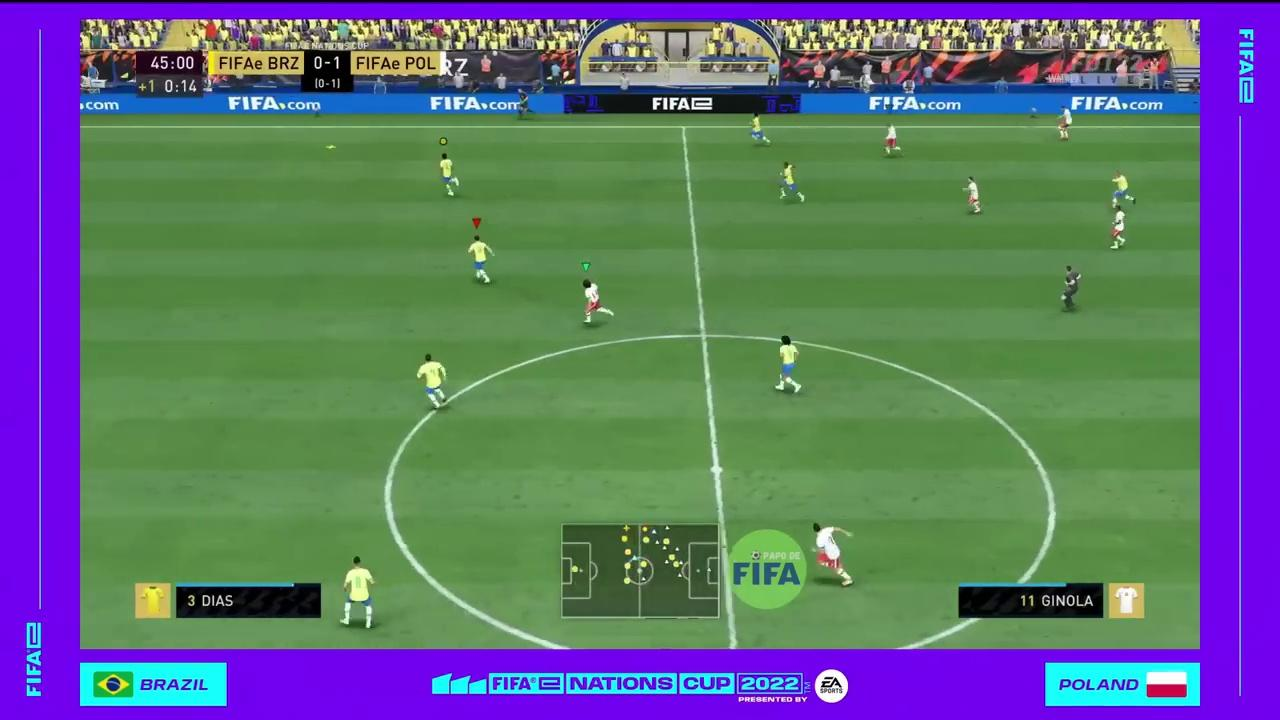scoreboard: (209, 51, 447, 77)
timestamp: (133, 51, 203, 96)
